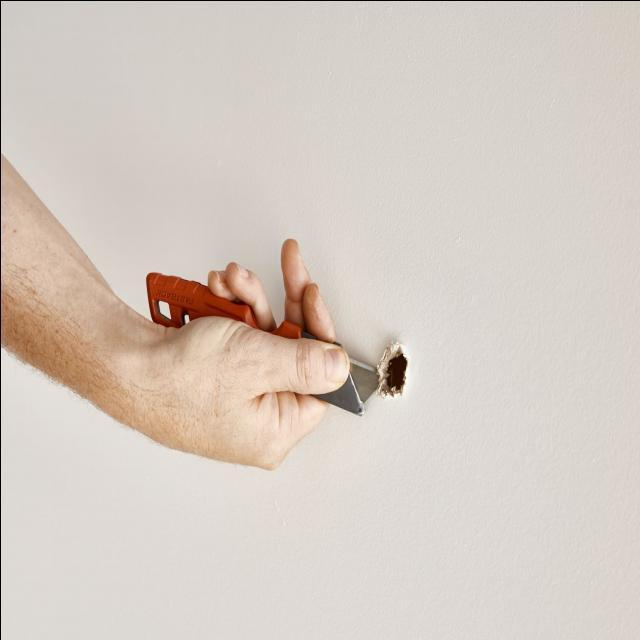Crack: (380, 336, 408, 394)
